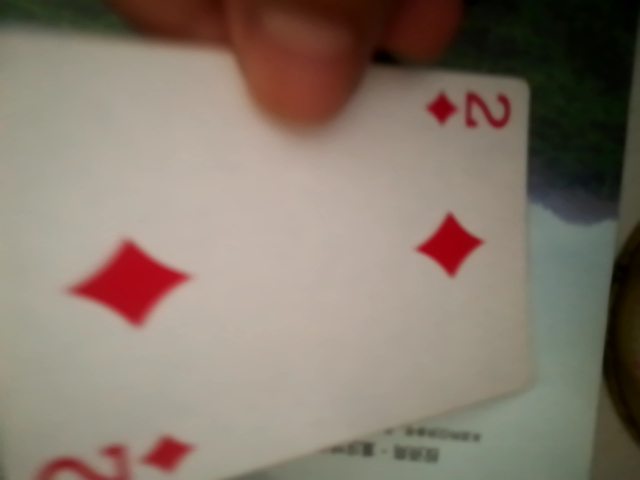fk 2: (2, 37, 549, 477)
